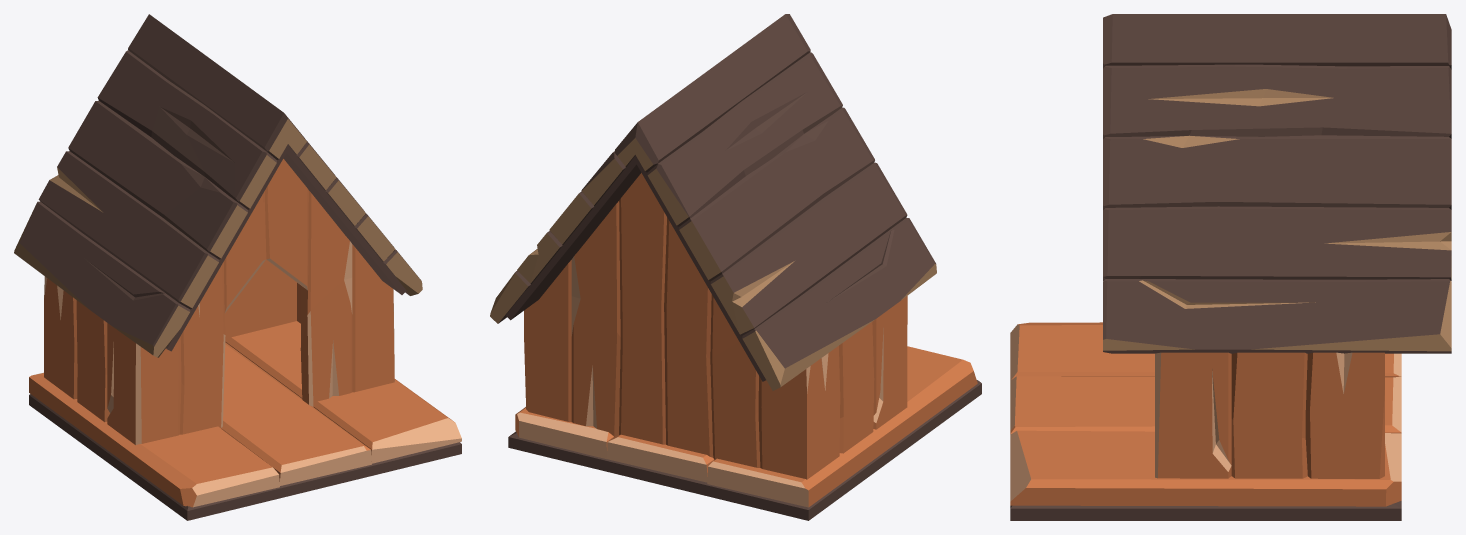
The model's file is Dog_House.fbx.
3 renders of one model, left to right at view 1: azimuth 30°, elevation 25°; view 2: azimuth 150°, elevation 25°; view 3: azimuth 270°, elevation 25°, orthographic. The views are drawn at different scales.
Parts seen in each view (by area): view 1: Dog_House; view 2: Dog_House; view 3: Dog_House.
Boxes of the visible parts, x1,y1,x2,y2 form: Dog_House: [14, 14, 461, 520]; Dog_House: [490, 14, 981, 520]; Dog_House: [1010, 14, 1451, 520].
Bounding box in the file's own units: 34.55 × 41.03 × 38.63.
